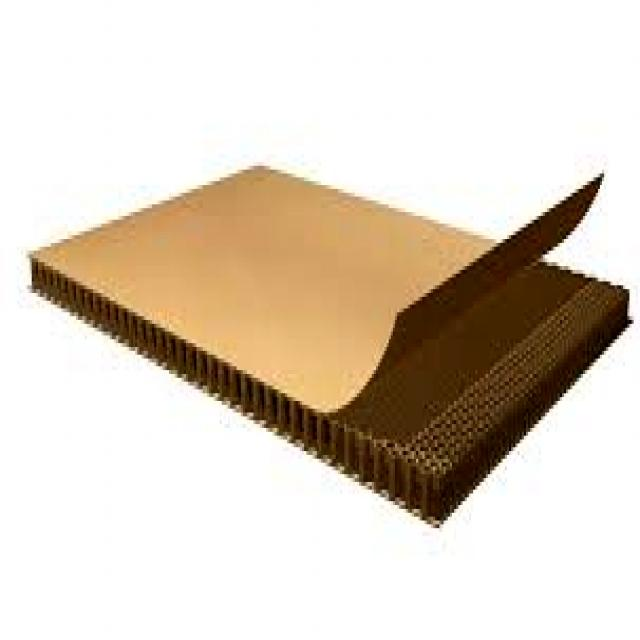Cardboard: (25, 159, 632, 533)
